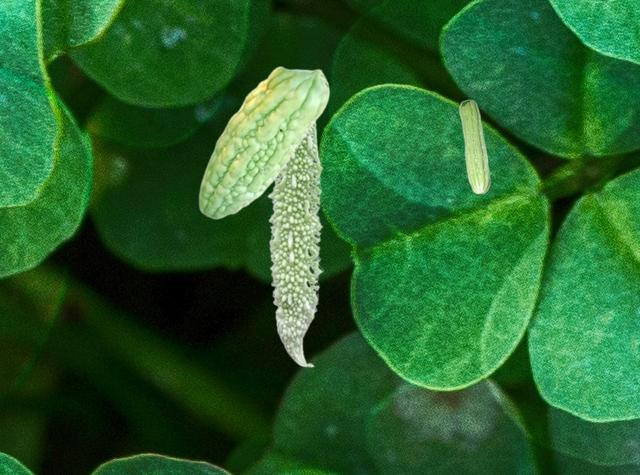ampalaya: (198, 65, 331, 220), (265, 122, 324, 368), (457, 98, 490, 194)
